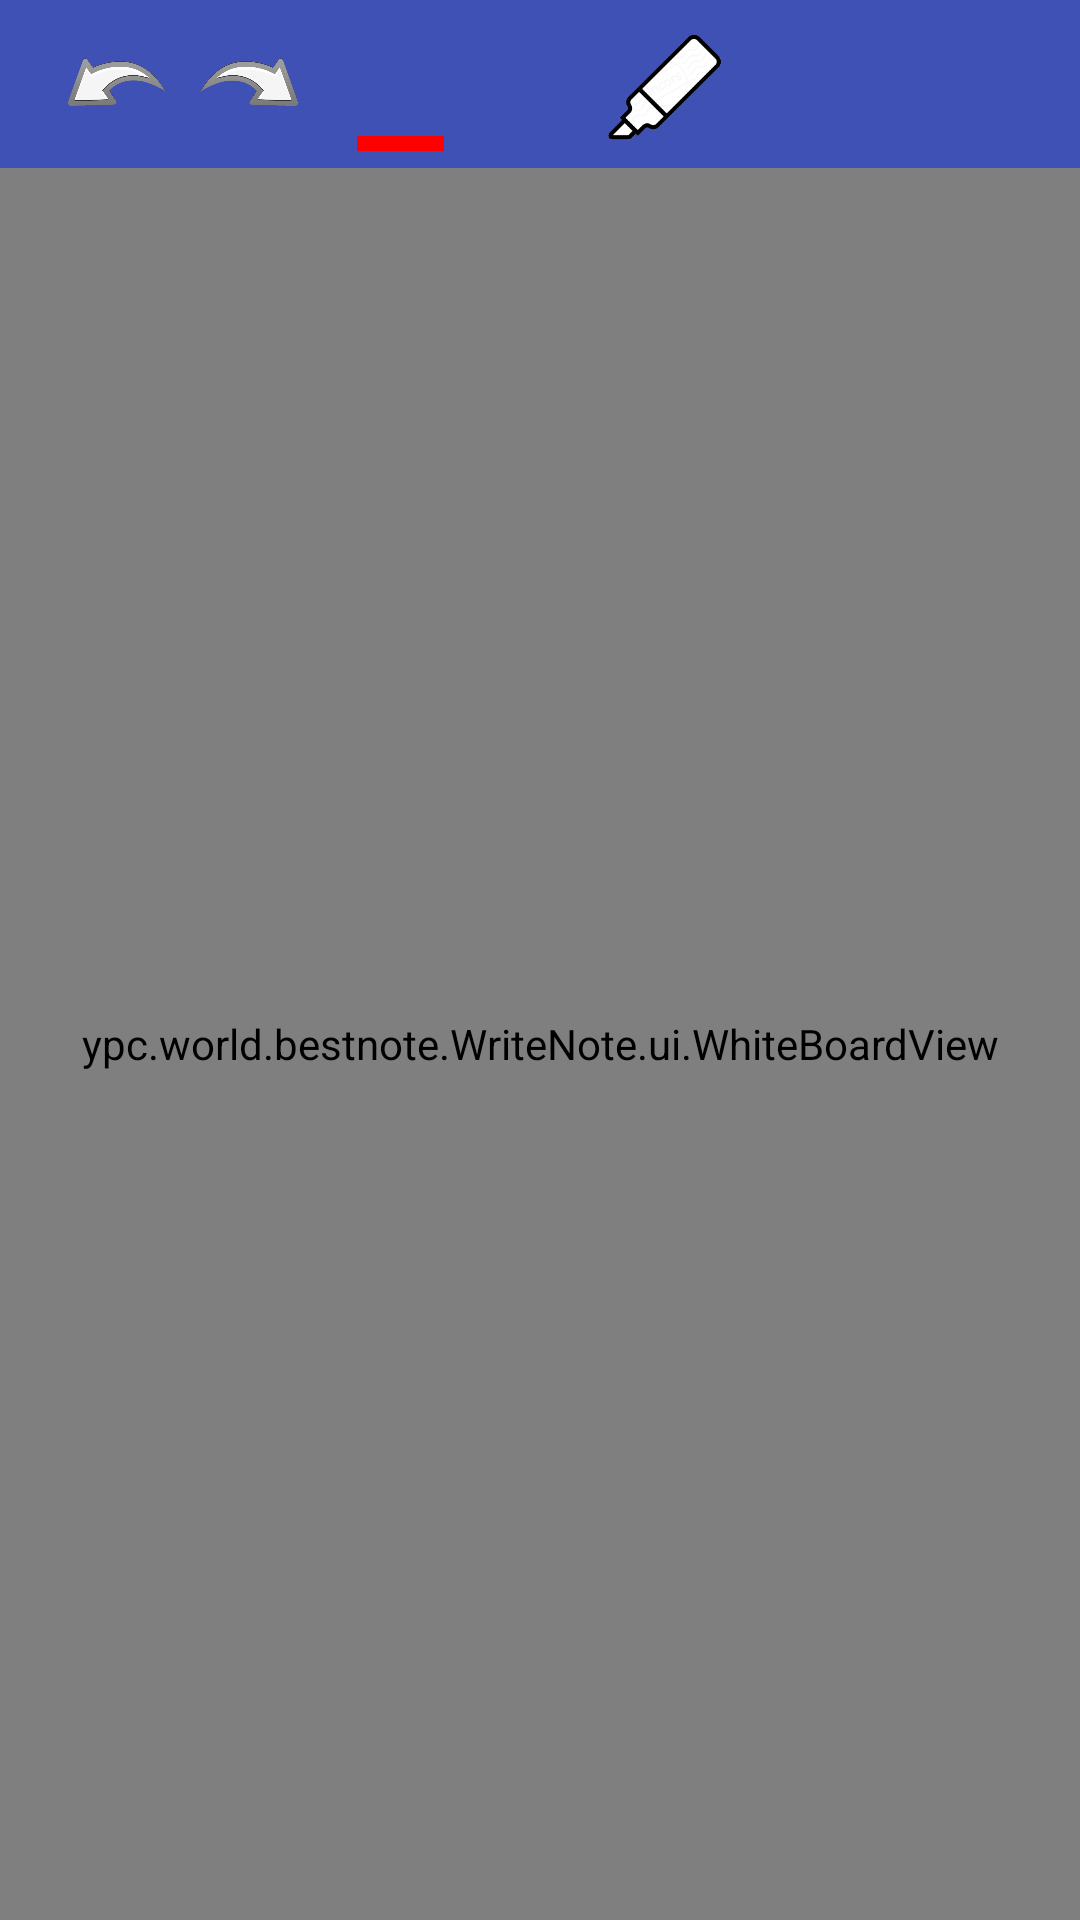

Point at icon controls on the screen. Image size 1080 x 1920, points as [x,y].
marker: [664,87]
redo: [249,82]
undo: [116,82]
